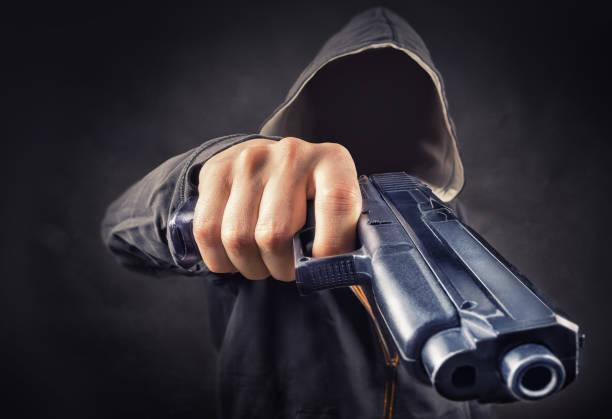weapon: (158, 166, 590, 404)
